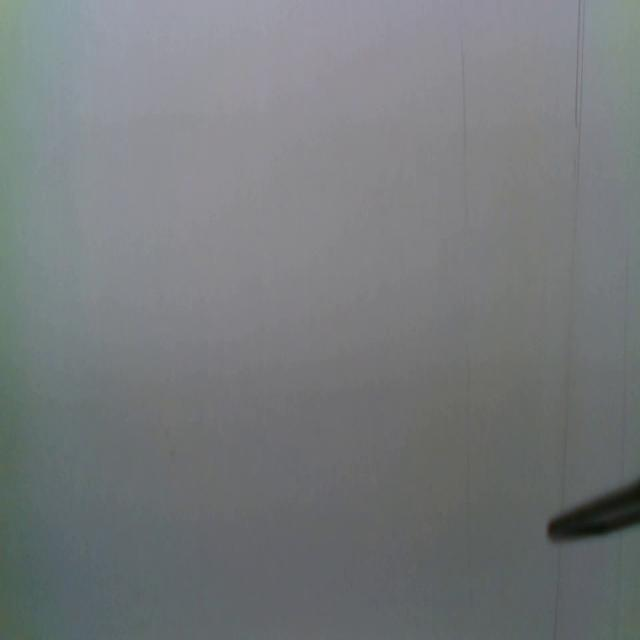crease: (560, 0, 586, 492), (456, 37, 474, 566), (617, 233, 632, 474), (612, 535, 627, 639), (551, 544, 563, 640)
